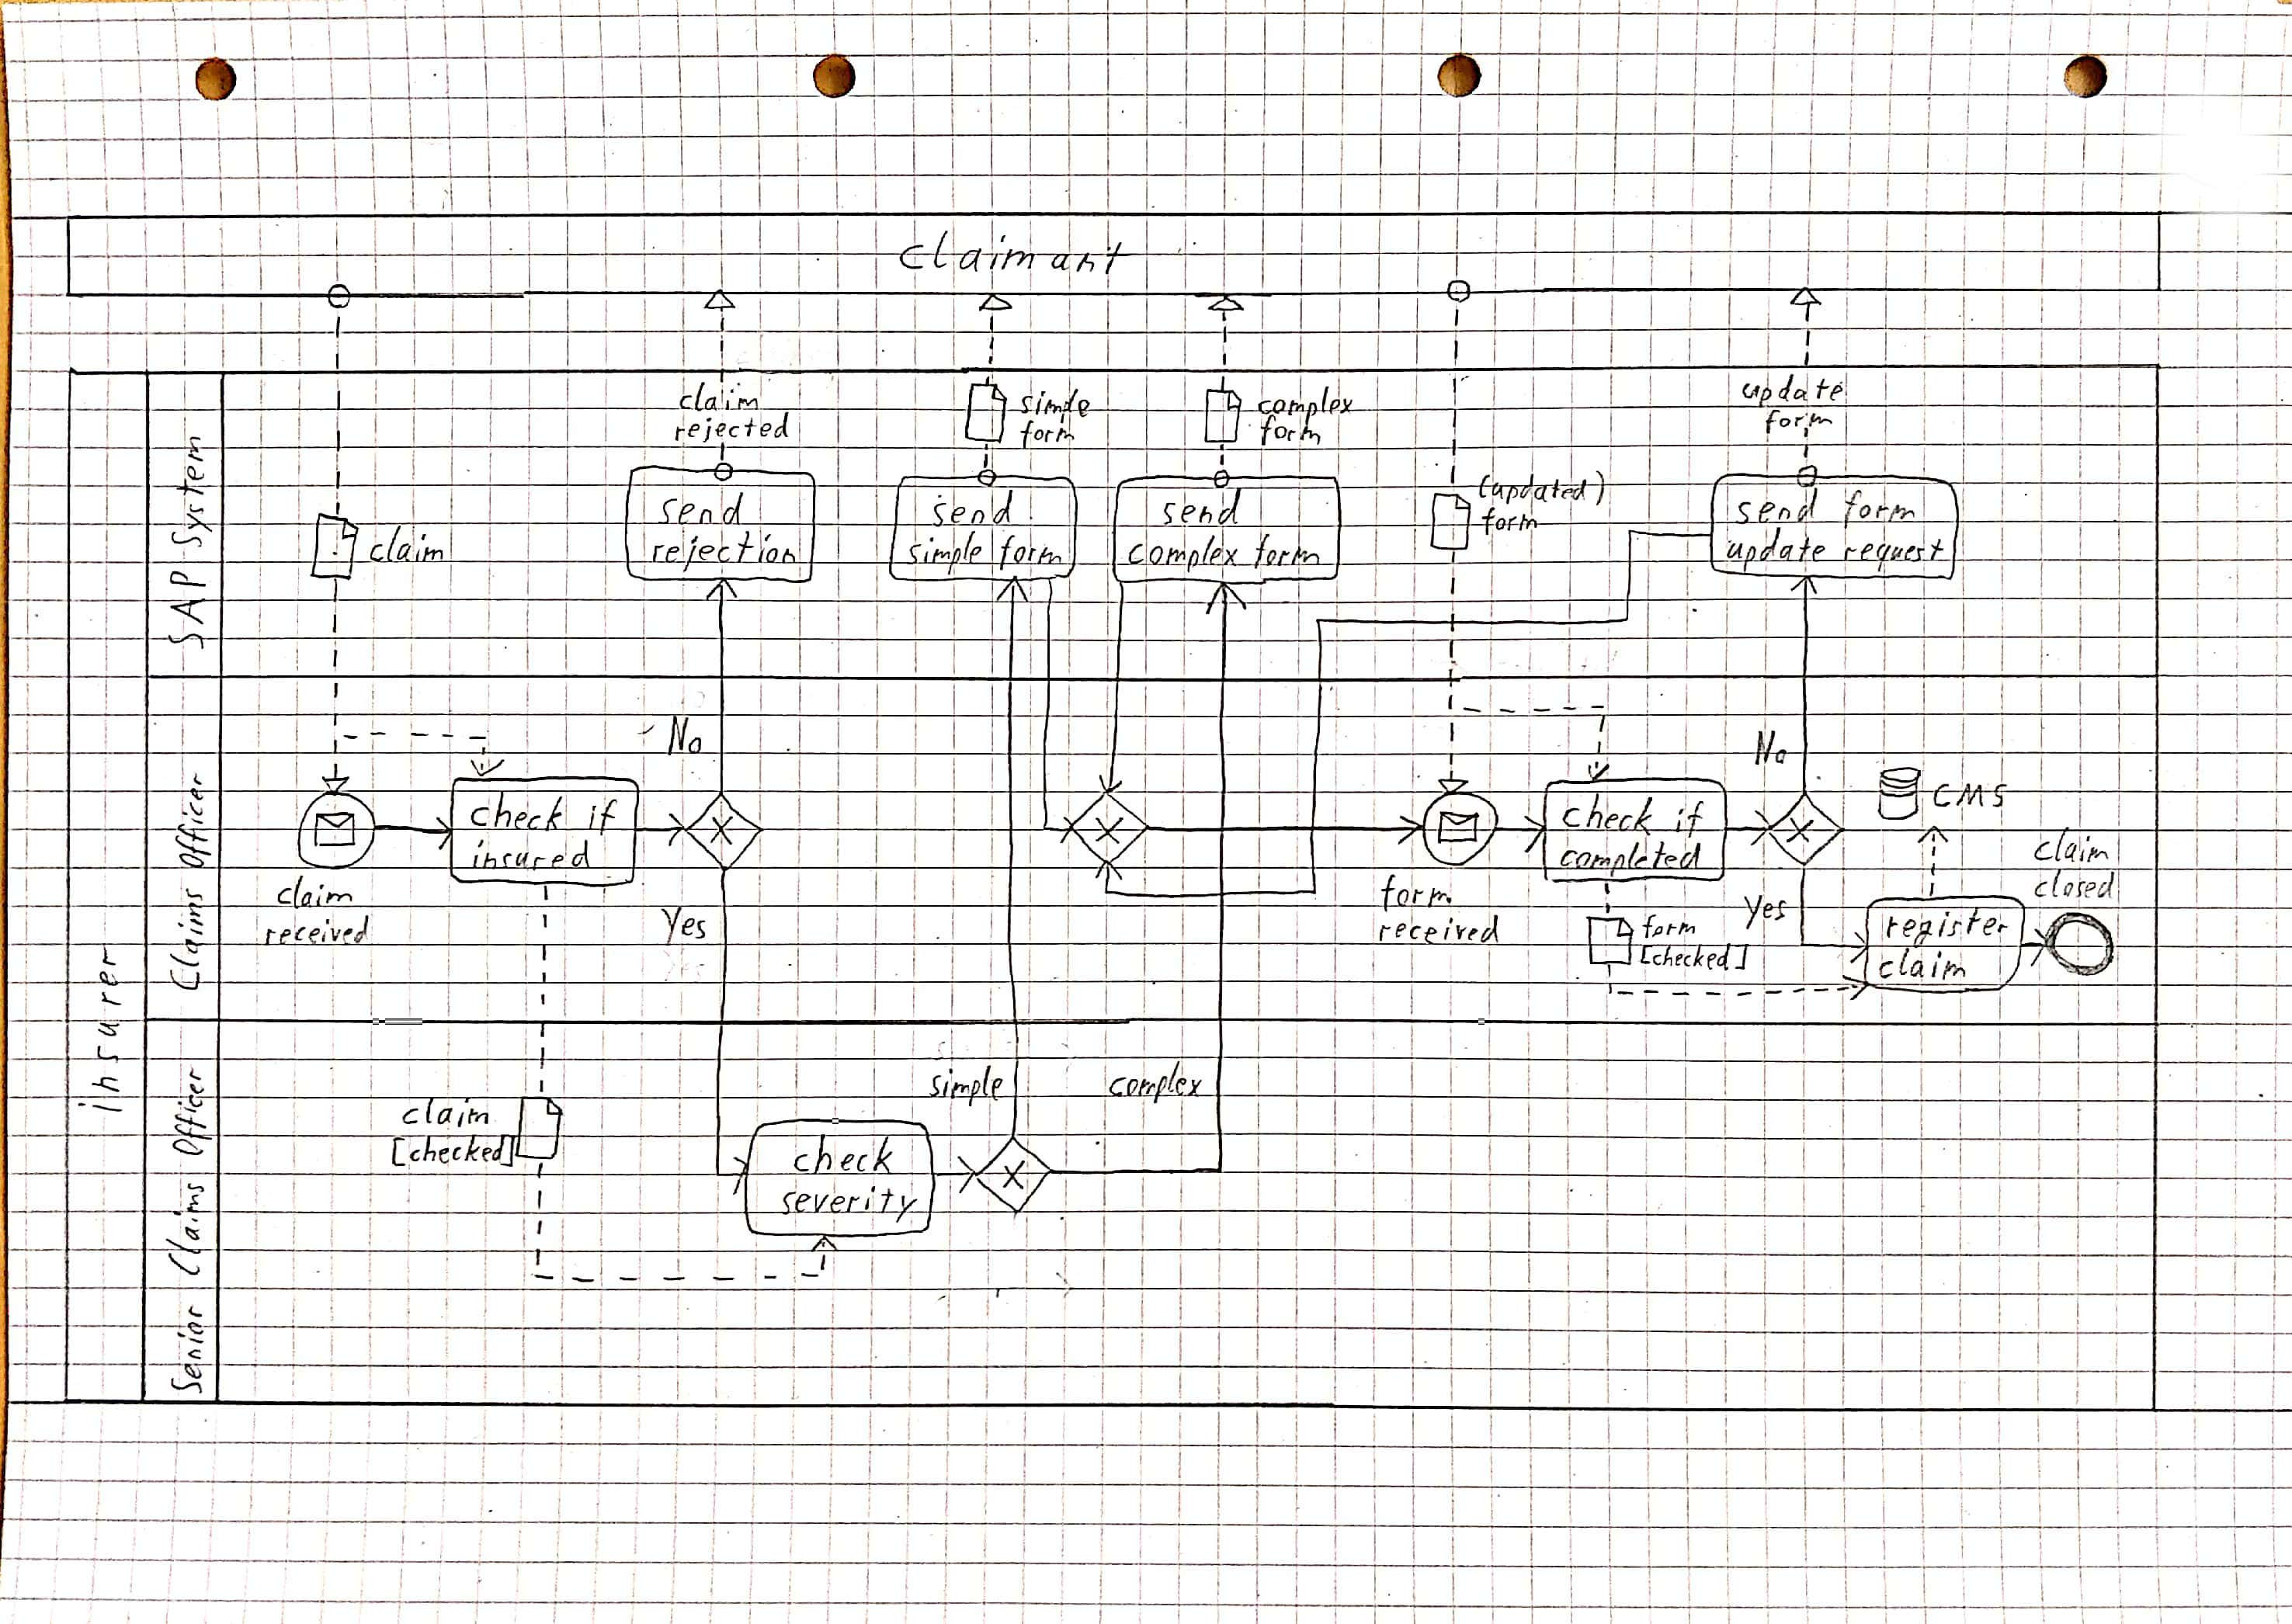(updated): (1468, 464, 1614, 510)
CMS: (1930, 777, 2011, 810)
Claims: (160, 886, 214, 997), (163, 1169, 211, 1283)
No: (664, 714, 705, 756), (1756, 731, 1789, 772)
Officer: (167, 773, 211, 879), (167, 1065, 211, 1162)
SAP: (162, 566, 214, 657)
Senior: (170, 1299, 211, 1399)
System: (167, 432, 216, 555)
[checked]: (387, 1132, 519, 1171), (1640, 937, 1752, 979)
check: (1556, 789, 1666, 838), (793, 1132, 900, 1176), (469, 794, 573, 838)
claim: (677, 374, 765, 418), (362, 524, 448, 566), (1877, 946, 1970, 982), (2028, 830, 2109, 872), (399, 1097, 496, 1130), (274, 879, 355, 912)
claimant: (896, 230, 1146, 286)
closed: (2034, 866, 2116, 909)
complex: (1102, 1062, 1211, 1106), (1125, 533, 1243, 569), (1257, 381, 1357, 413)
form: (1251, 413, 1325, 453), (1246, 533, 1324, 569), (995, 533, 1067, 571), (1839, 489, 1918, 524), (1475, 504, 1541, 540), (1761, 402, 1833, 434), (1014, 417, 1077, 452), (1642, 912, 1700, 939)
form.: (1376, 874, 1457, 912)
if: (578, 794, 627, 840)
insured: (464, 838, 598, 875)
insurer: (77, 935, 132, 1125)
received: (1378, 916, 1501, 949), (264, 916, 373, 951)
register: (1877, 907, 2013, 947)
rejected: (673, 413, 796, 446)
rejection: (642, 533, 800, 568)
request: (1839, 533, 1946, 566)
send: (656, 489, 752, 529), (1153, 490, 1244, 533), (926, 490, 1018, 531), (1731, 489, 1821, 529)
severity: (772, 1183, 919, 1220)
simple: (919, 1063, 1005, 1106), (1014, 381, 1097, 424), (903, 531, 984, 569)
update: (1724, 533, 1828, 566), (1744, 374, 1847, 408)
yes: (661, 907, 710, 946), (1744, 891, 1788, 928)
